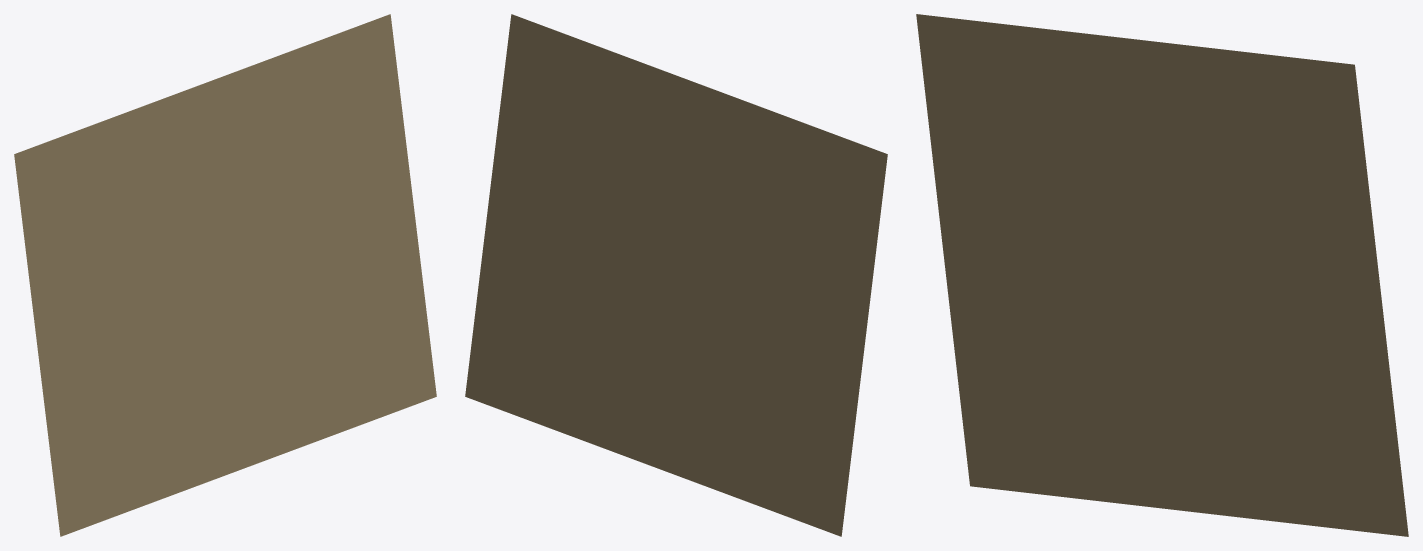
File: v4_wall_c12.obj
3 renders of one model, left to right at view 1: azimuth 30°, elevation 25°; view 2: azimuth 150°, elevation 25°; view 3: azimuth 330°, elevation 25°, orthographic. The views are drawn at different scales.
Size of the model in its own units: 1.11 by 1.11 by 0.
